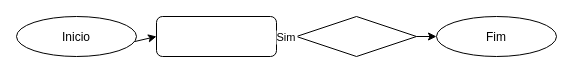
This 573x73 diagram has some shape labels left out. The centre of each missing label's shape, as x and y in pixels:
"Decisao?" belongs at (x=356, y=36).
"Processar dados" belongs at (x=216, y=36).
